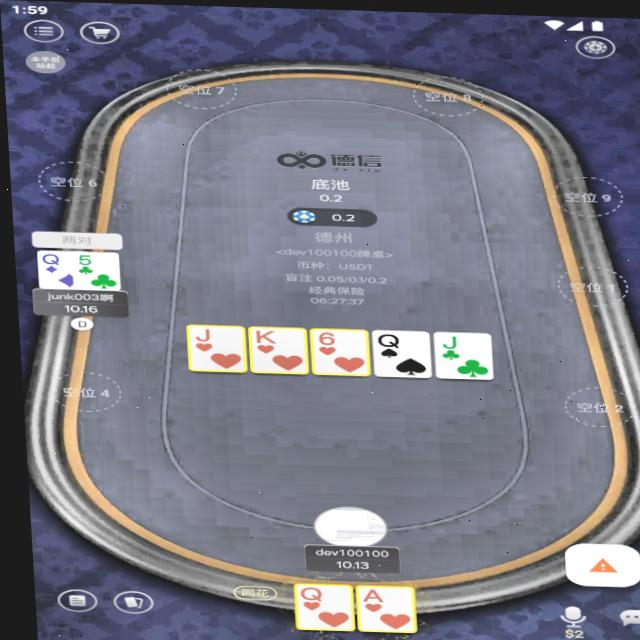5m: (71, 252, 92, 266)
6h: (310, 328, 339, 346)
Ah: (352, 585, 381, 602)
Jh: (188, 326, 215, 343)
Jm: (433, 331, 459, 348)
Kh: (246, 327, 274, 344)
Qf: (37, 251, 61, 266)
Qh: (291, 584, 319, 601)
Qs: (372, 329, 399, 346)
